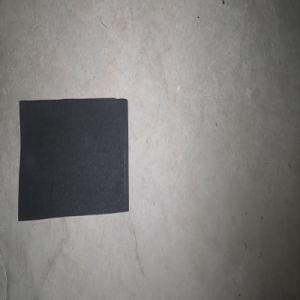PaintChip: (17, 97, 129, 221)
